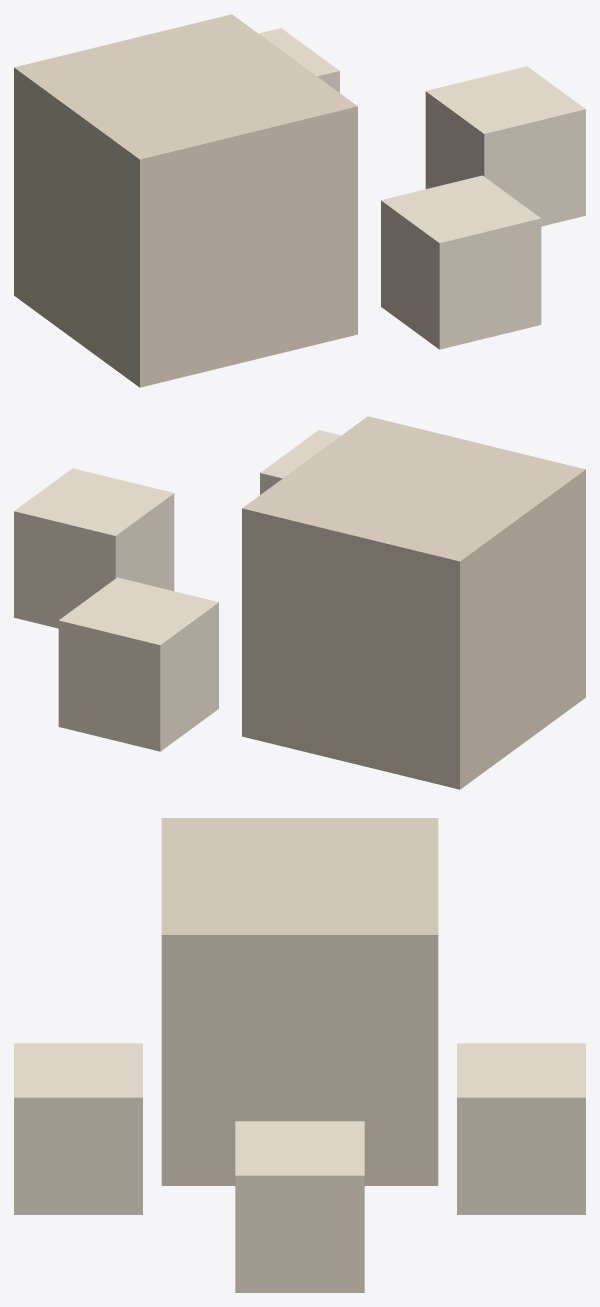
File: architecture.glb
3 renders of one model, top to bottom at view 1: azimuth 30°, elevation 25°; view 2: azimuth 150°, elevation 25°; view 3: azimuth 270°, elevation 25°, orthographic. The views are drawn at different scales.
Parts seen in each view (by area): view 1: architecture_shell, LIGHT_012, WALL_A002, WALL_A001; view 2: architecture_shell, WALL_A001, WALL_A002, LIGHT_012; view 3: architecture_shell, WALL_A002, WALL_A001, LIGHT_012.
Part boxes in pixels (left/top/right/bottom): architecture_shell: left=14, top=14, right=357, bottom=387; LIGHT_012: left=381, top=175, right=541, bottom=349; WALL_A002: left=425, top=66, right=585, bottom=226; WALL_A001: left=258, top=28, right=339, bottom=92; architecture_shell: left=242, top=416, right=585, bottom=789; WALL_A001: left=58, top=577, right=218, bottom=751; WALL_A002: left=14, top=468, right=174, bottom=628; LIGHT_012: left=260, top=430, right=341, bottom=494; architecture_shell: left=161, top=818, right=438, bottom=1185; WALL_A002: left=235, top=1121, right=364, bottom=1292; WALL_A001: left=457, top=1043, right=585, bottom=1214; LIGHT_012: left=14, top=1043, right=142, bottom=1214.
Bounding box in the file's own units: 3300 × 1500 × 3100.
